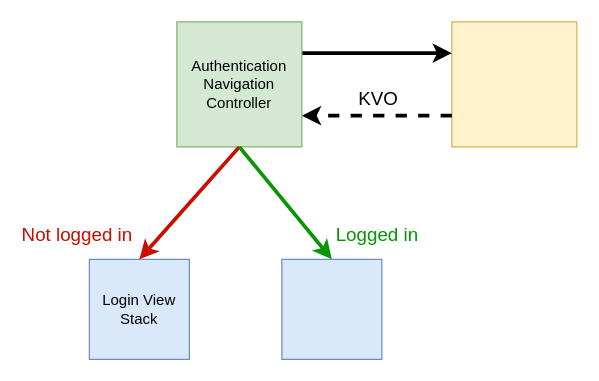
The diagram is 599 pixels wide and 381 high, and some of its shapes have lost their labels. Here are the shapes that lost their labels. From the top down, the centre of each, then its label:
pixel 514 84: Authentication Manager
pixel 331 308: Expense Item View Stack
